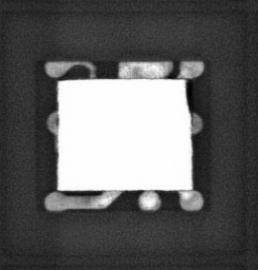DIE_BROKEN: (184, 78, 195, 113)
